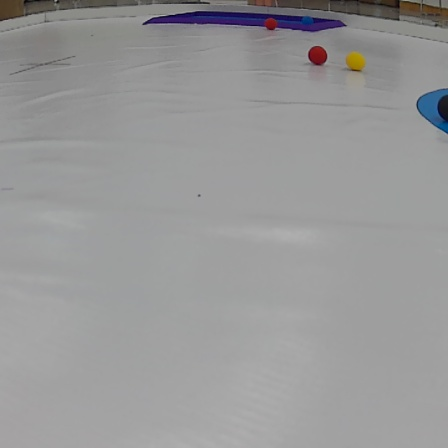black: (437, 95, 448, 123)
blue: (302, 14, 317, 26)
blue_aim: (139, 9, 350, 32)
blue_base: (411, 87, 448, 139)
red: (303, 43, 332, 68), (261, 15, 282, 31)
yellow: (344, 51, 369, 72)
